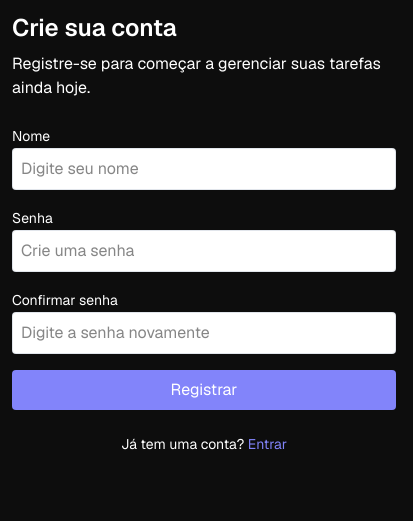
Test: RegisterForm › Deve mostrar erro quando as senhas nao coincidem
The image size is (413, 521).
Type "guilherme" into the field with placeholder "Digite seu nome".
click(204, 169); type("guilherme")  # box x1=12 y1=148 x2=396 y2=190
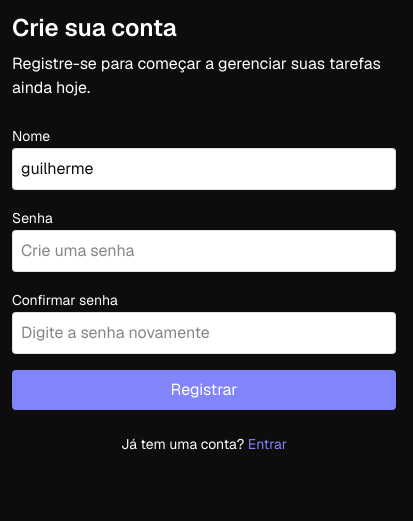
Type "123456" into the password field with placeholder "Crie uma senha".
click(204, 251); type("123456")  # box x1=12 y1=230 x2=396 y2=272
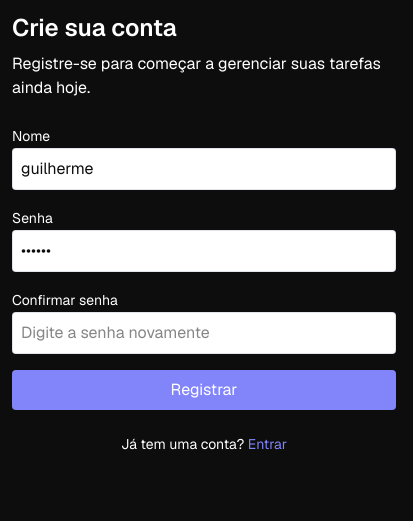
Type "654321" into the password field with placeholder "Digite a senha novamente".
click(204, 333); type("654321")  # box x1=12 y1=312 x2=396 y2=354
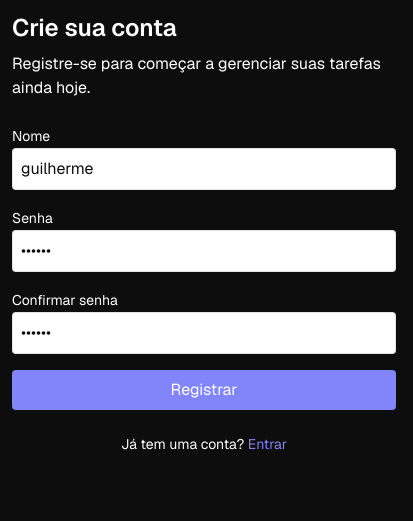
Click the button "Registrar".
click(204, 390)  # box x1=12 y1=370 x2=396 y2=410
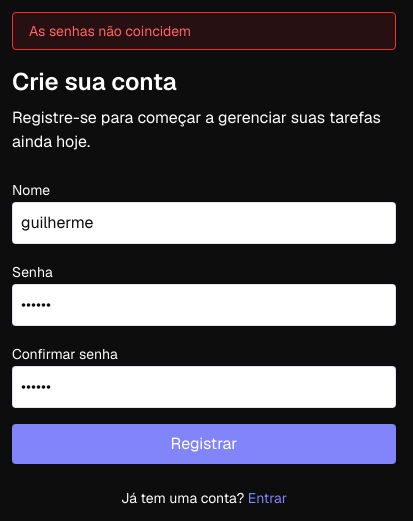
Expected: the text "As senhas não coincidem" is shown, x1=29 y1=22 x2=191 y2=40
